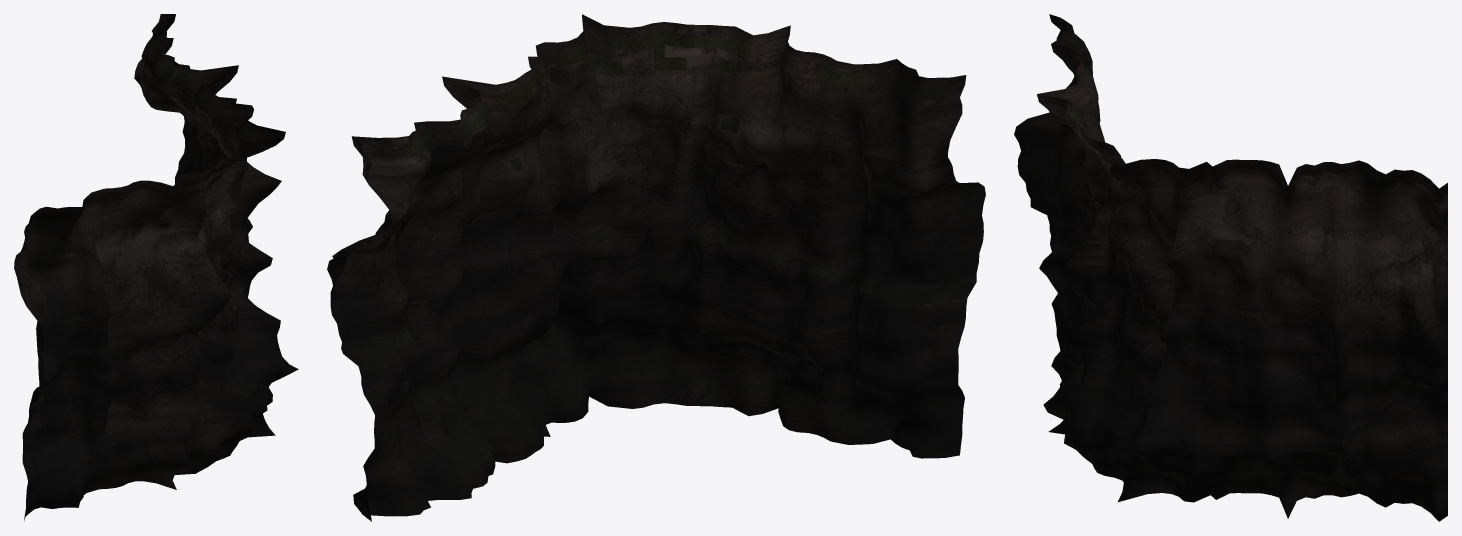
The model's file is cliff_wall_corner_inner_mid.glb.
The picture shows the model from 3 angles, left to right: view 1: azimuth 30°, elevation 25°; view 2: azimuth 150°, elevation 25°; view 3: azimuth 270°, elevation 25°; orthographic projection. The views are drawn at different scales.
Parts seen in each view (by area): view 1: cliff_wall_corner_inner_mid; view 2: cliff_wall_corner_inner_mid; view 3: cliff_wall_corner_inner_mid.
Part boxes in pixels (x1,y1,x2,y2): cliff_wall_corner_inner_mid: (14,14,298,521); cliff_wall_corner_inner_mid: (327,14,985,521); cliff_wall_corner_inner_mid: (1014,14,1447,521).
Bounding box in the file's own units: 5.11 × 4.2 × 4.88.
2 materials, 2 textured.
